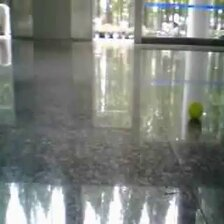tennis: (189, 102, 203, 118)
